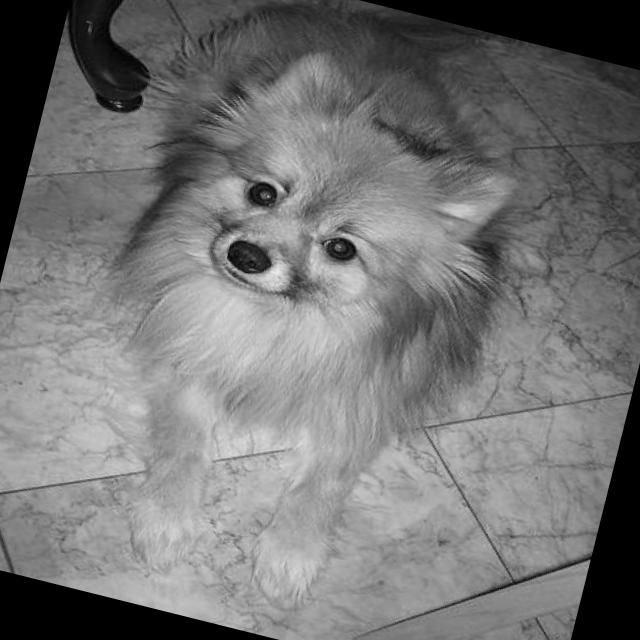laying down: (26, 0, 572, 640)
